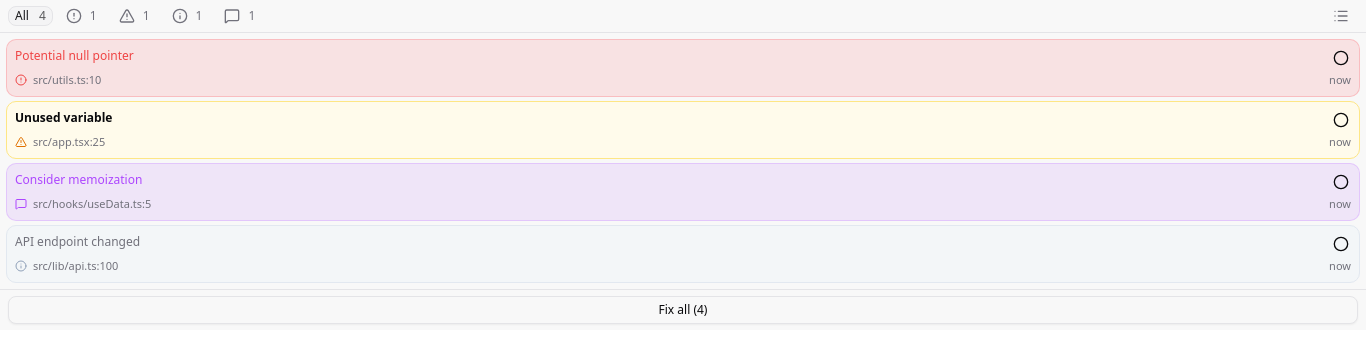
Scenario: ReviewPanel › severity filters › filters by error severity
Expected: the text "Potential null pointer" is shown, [15,48,134,63]
Note: Error button is the second filter button (after "All")
Click the 1st button "1".
click(81, 16)  # box [57,6,106,26]
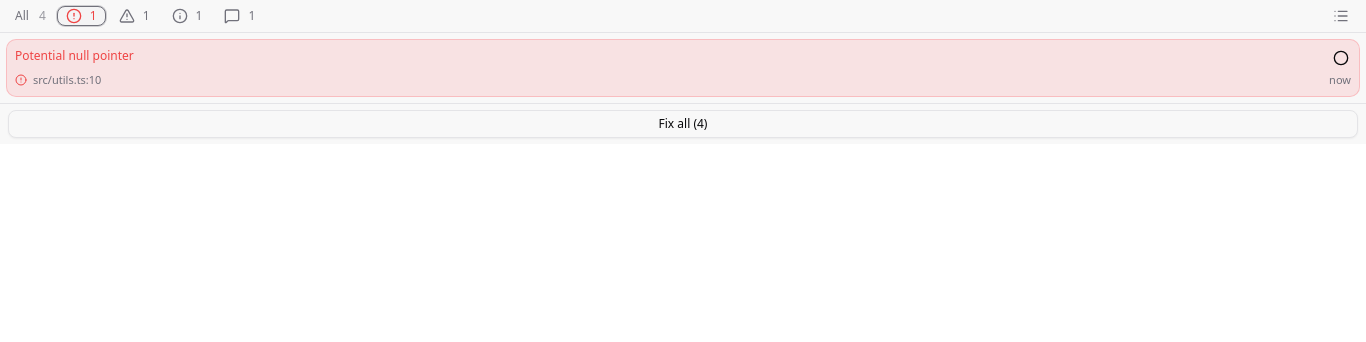
Result: the text "Unused variable" is gone
Result: the text "Consider memoization" is gone
Result: the text "API endpoint changed" is gone
